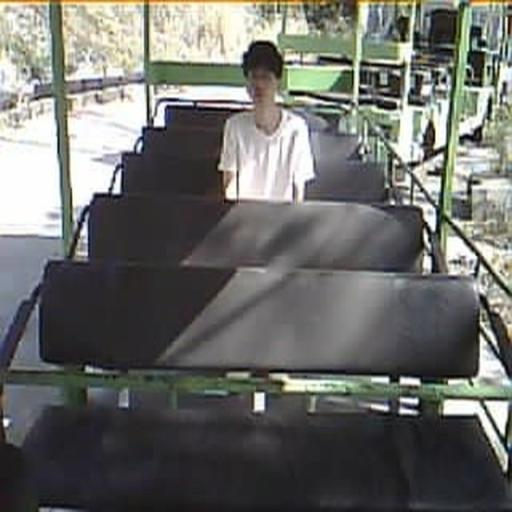persona: (216, 39, 317, 205)
